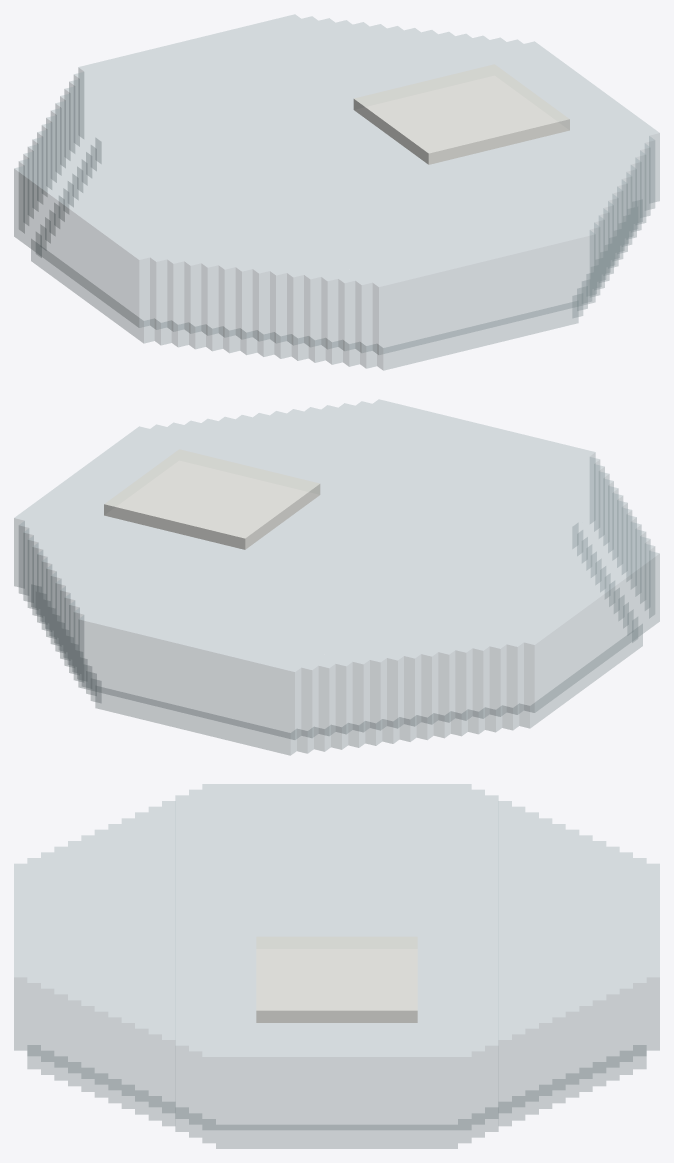
Rendered from petri_dish.glb.
3 renders of one model, top to bottom at view 1: azimuth 30°, elevation 25°; view 2: azimuth 150°, elevation 25°; view 3: azimuth 270°, elevation 25°, orthographic. The views are drawn at different scales.
Visible parts, largest first — view 1: petri_dish:compound; view 2: petri_dish:compound; view 3: petri_dish:compound.
Boxes of the visible parts, box(x1,y1,x2,y2) form: petri_dish:compound: box(14, 14, 659, 370); petri_dish:compound: box(14, 399, 659, 755); petri_dish:compound: box(14, 784, 659, 1148).
Size of the model in its own units: 0.096 by 0.018 by 0.096.
